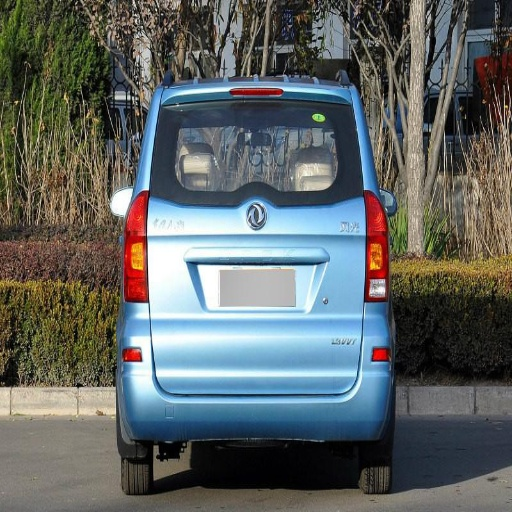back_bumper: (122, 302, 395, 440)
trunk: (142, 194, 366, 391)
